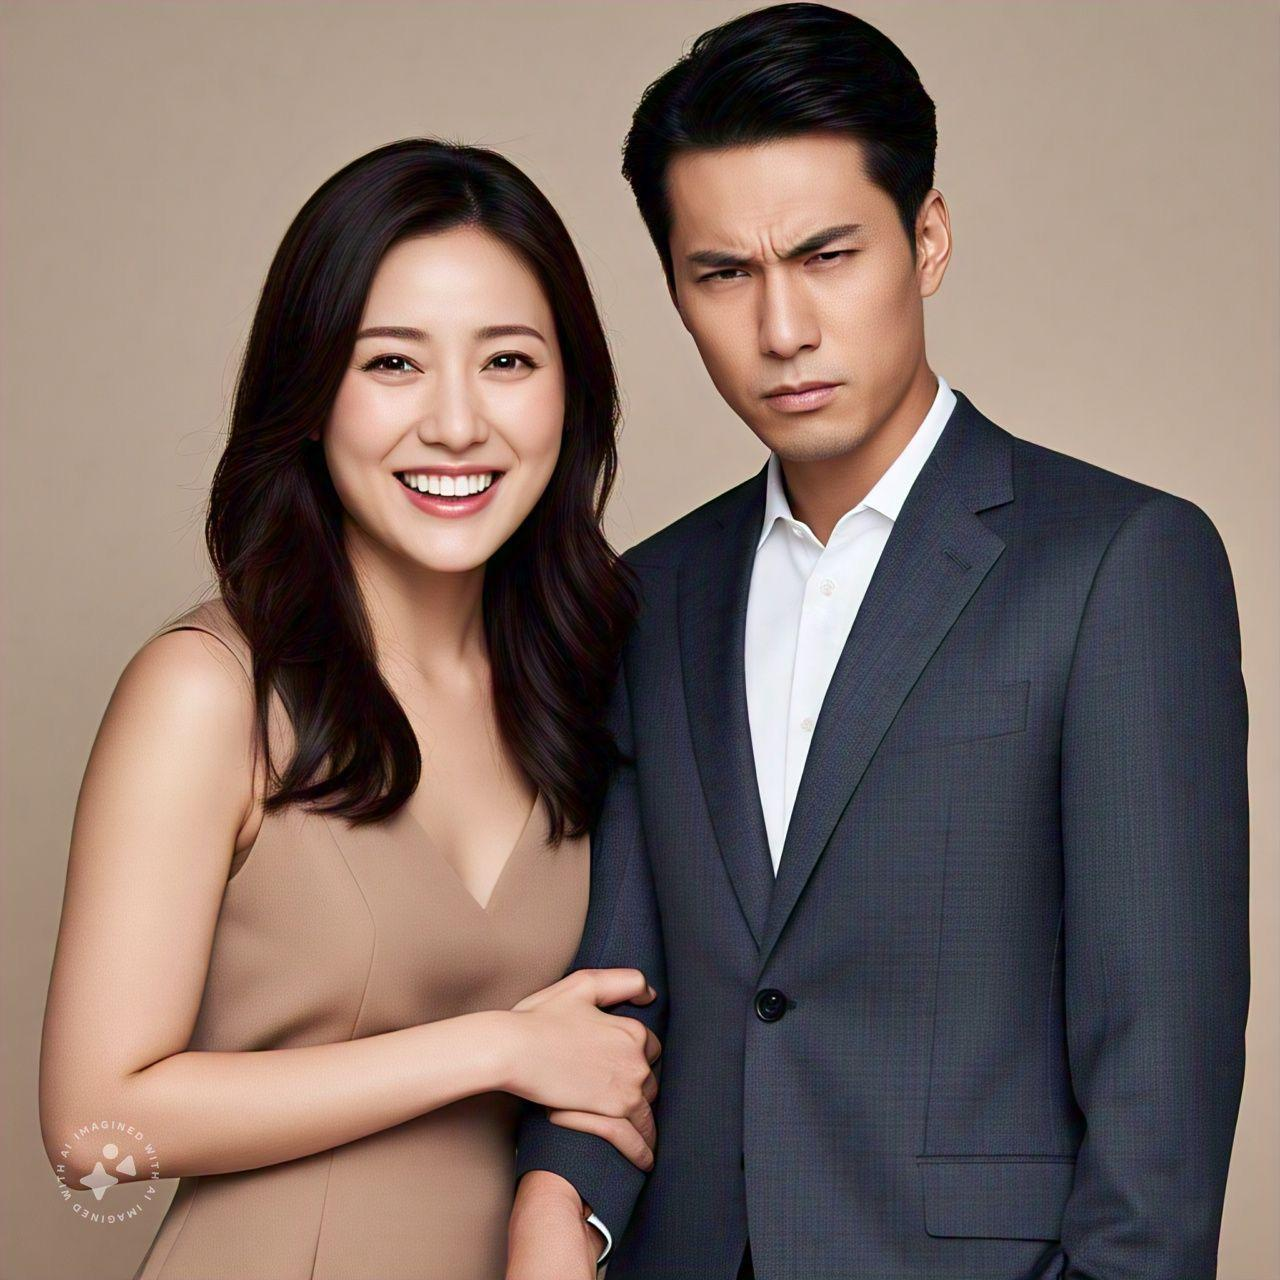feliz: (326, 222, 566, 554)
normal: (658, 138, 934, 454)
